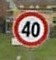limite 40: (11, 10, 49, 47)
